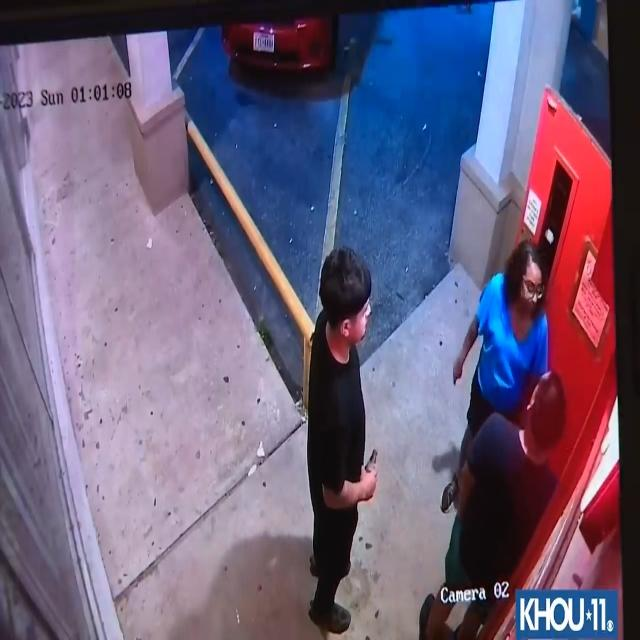Person: (421, 372, 565, 612), (308, 250, 380, 640), (462, 234, 552, 433), (564, 638, 565, 640)
